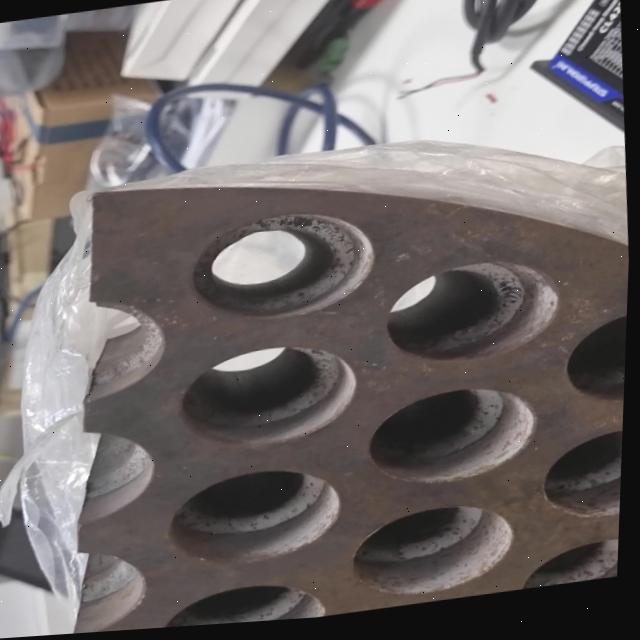Hole: (184, 203, 380, 330), (179, 340, 364, 459), (382, 257, 567, 375), (168, 463, 349, 575), (366, 386, 544, 497), (352, 504, 522, 608), (157, 578, 332, 631), (541, 435, 626, 532), (561, 318, 630, 416), (521, 544, 623, 597)
